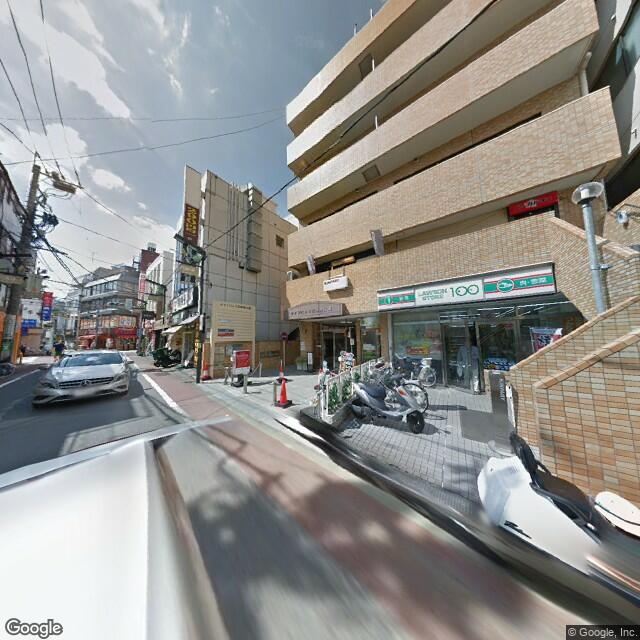lawson: (373, 259, 558, 312)
